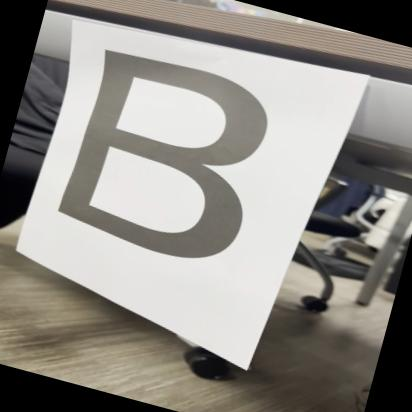seat: (29, 25, 292, 291)
